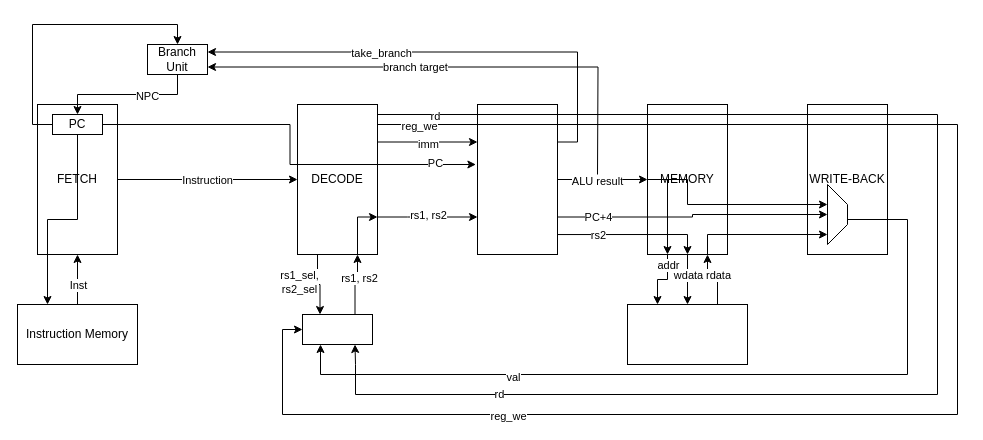
Some shapes in this 983 by 440 pixel diagram are drawn without their labels. Here are the shapes that lost their labels. From the top down, the centre of each, then its label:
point 517,179: EXECUTE
point 337,329: Regfile
point 687,334: Data Memory
